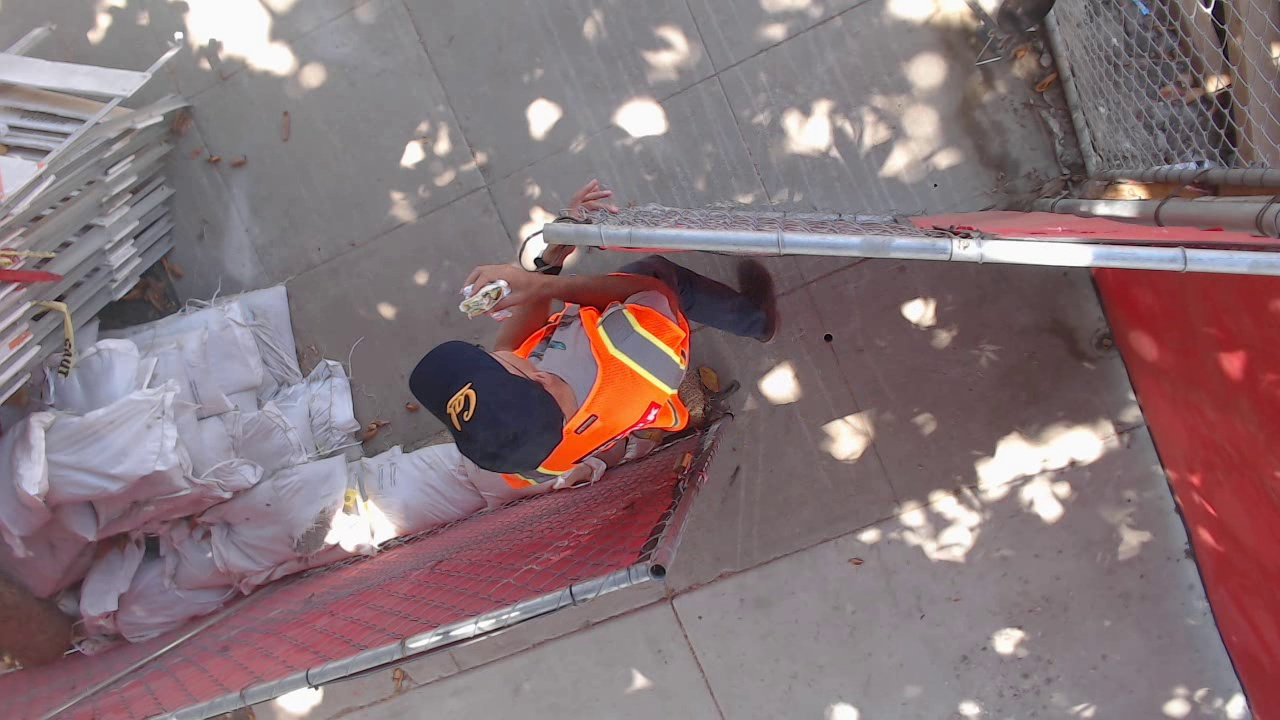person: (309, 194, 545, 438)
